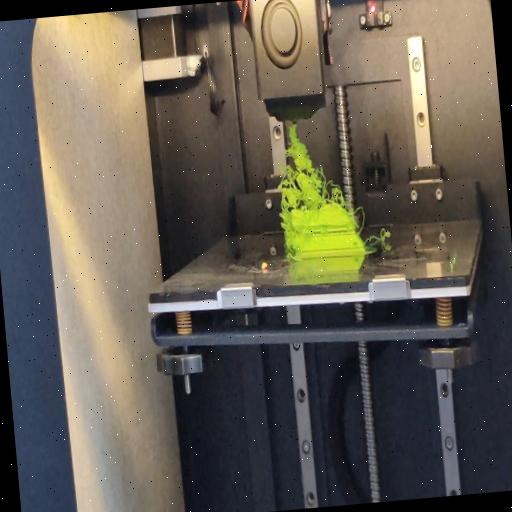spaghetti: (274, 122, 342, 210), (280, 208, 296, 258), (362, 228, 392, 244), (354, 200, 366, 232)
